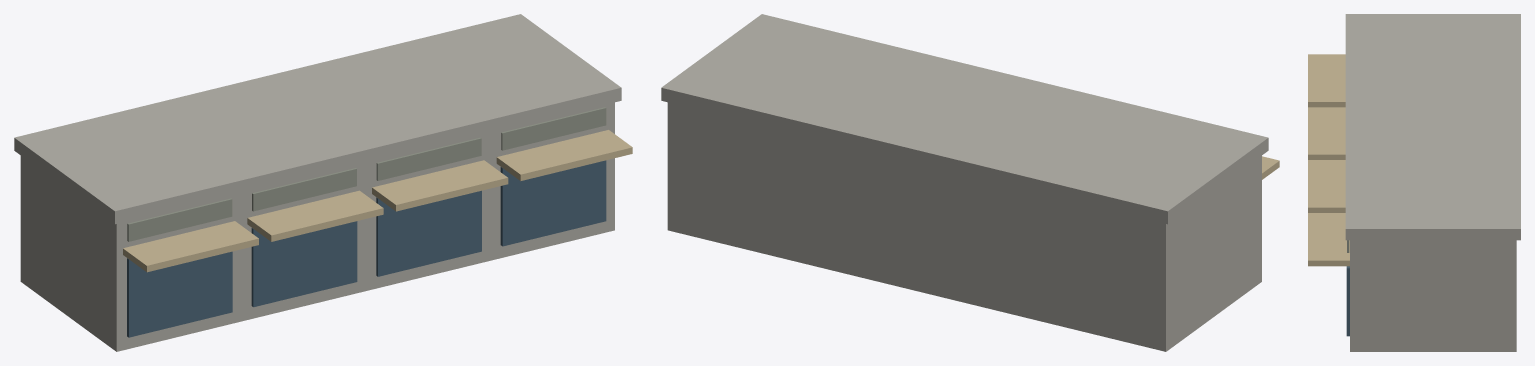
File: shop_row.glb
The picture shows the model from 3 angles, left to right: view 1: azimuth 30°, elevation 25°; view 2: azimuth 150°, elevation 25°; view 3: azimuth 270°, elevation 25°; orthographic projection. The views are drawn at different scales.
Visible parts, largest first — view 1: shop_row_mesh; view 2: shop_row_mesh; view 3: shop_row_mesh.
Part boxes in pixels (left/top/right/bottom): shop_row_mesh: left=14, top=14, right=632, bottom=351; shop_row_mesh: left=661, top=14, right=1279, bottom=351; shop_row_mesh: left=1308, top=14, right=1520, bottom=351.
Size of the model in its own units: 0.244 by 0.066 by 0.102.
